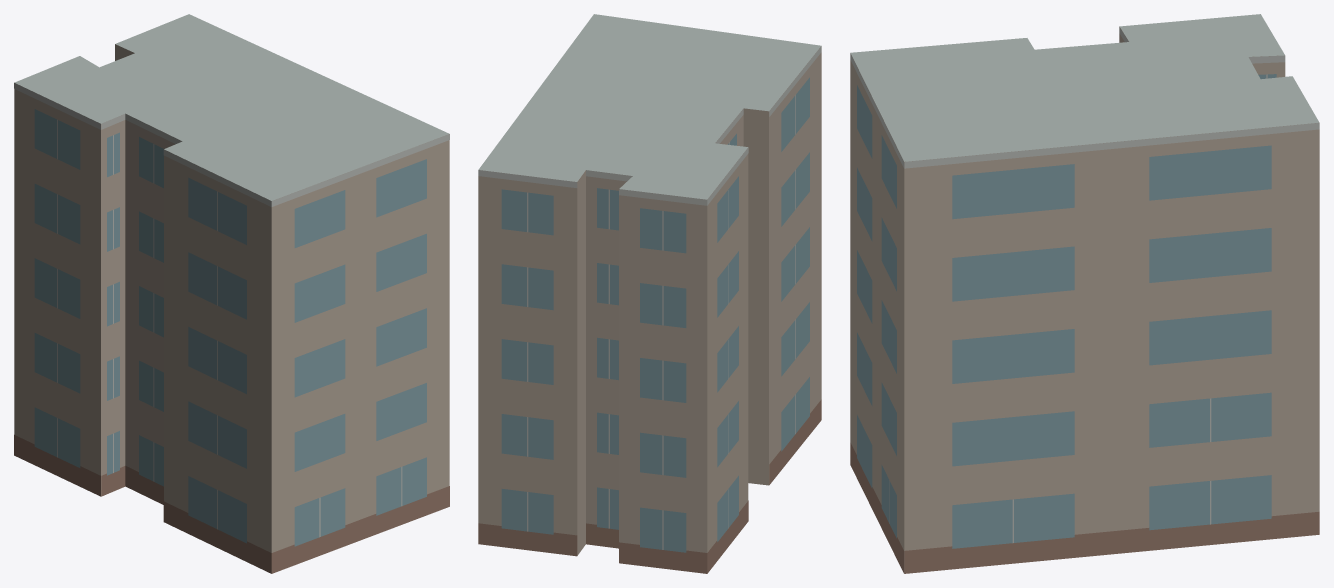
Rendered from survey-upis-32932007.glb.
3 renders of one model, left to right at view 1: azimuth 30°, elevation 25°; view 2: azimuth 150°, elevation 25°; view 3: azimuth 270°, elevation 25°, orthographic. The views are drawn at different scales.
Visible parts, largest first — view 1: survey-upis-32932007.tmp; view 2: survey-upis-32932007.tmp; view 3: survey-upis-32932007.tmp.
Boxes of the visible parts, x1,y1,x2,y2 form: survey-upis-32932007.tmp: (14, 14, 449, 573); survey-upis-32932007.tmp: (478, 14, 821, 573); survey-upis-32932007.tmp: (850, 14, 1319, 573).
Size of the model in its own units: 11.4 by 14.8 by 15.29.
